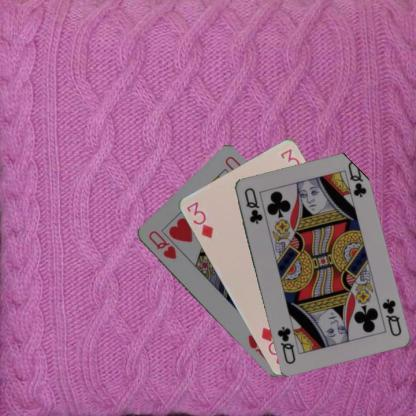3d: (184, 199, 214, 240)
Qc: (379, 296, 403, 338), (242, 184, 264, 226)
Qh: (146, 228, 178, 261)
